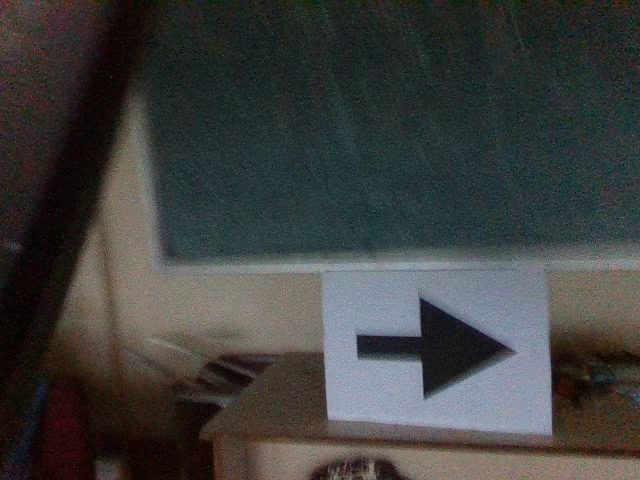Right: (348, 284, 523, 406)
